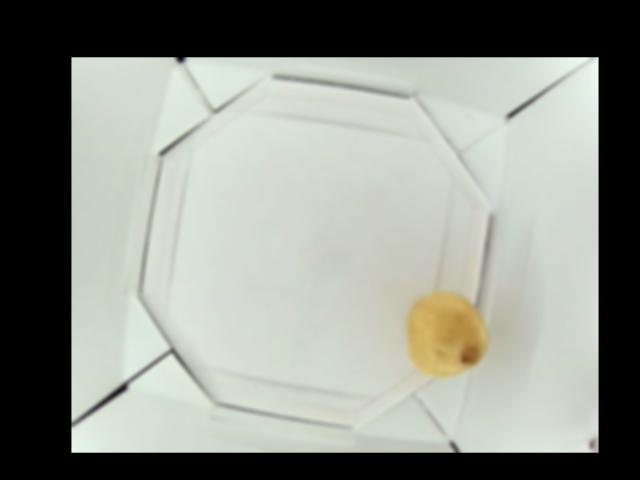Potato: (408, 290, 495, 379)
